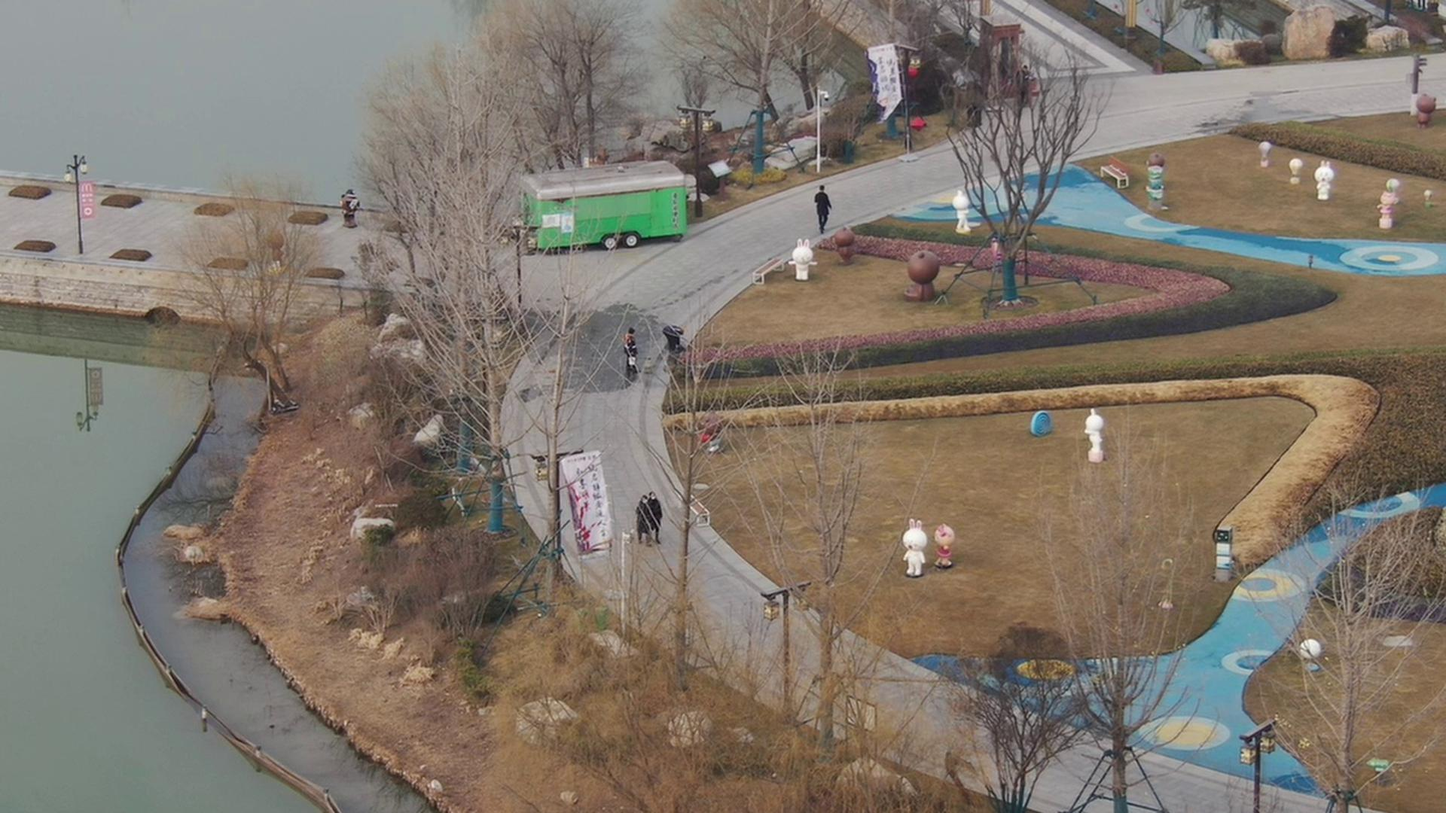class_2: (633, 491, 664, 551)
human: (803, 185, 834, 236), (617, 325, 641, 389), (652, 325, 682, 364)
